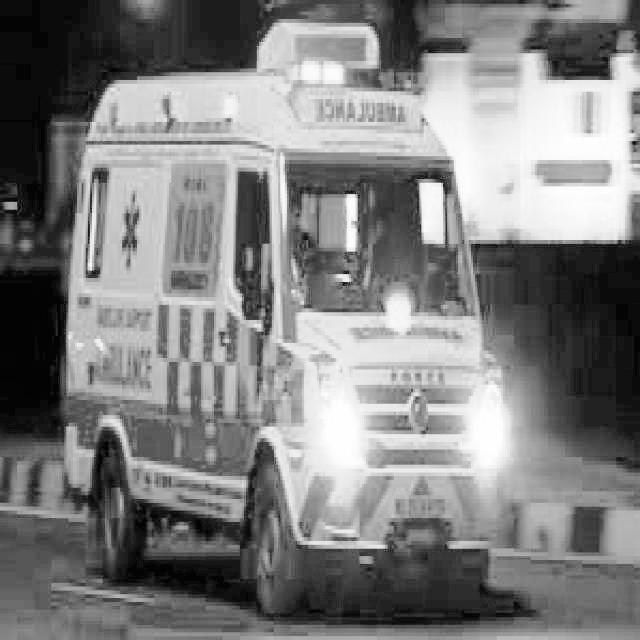LCV: (239, 20, 514, 554)
